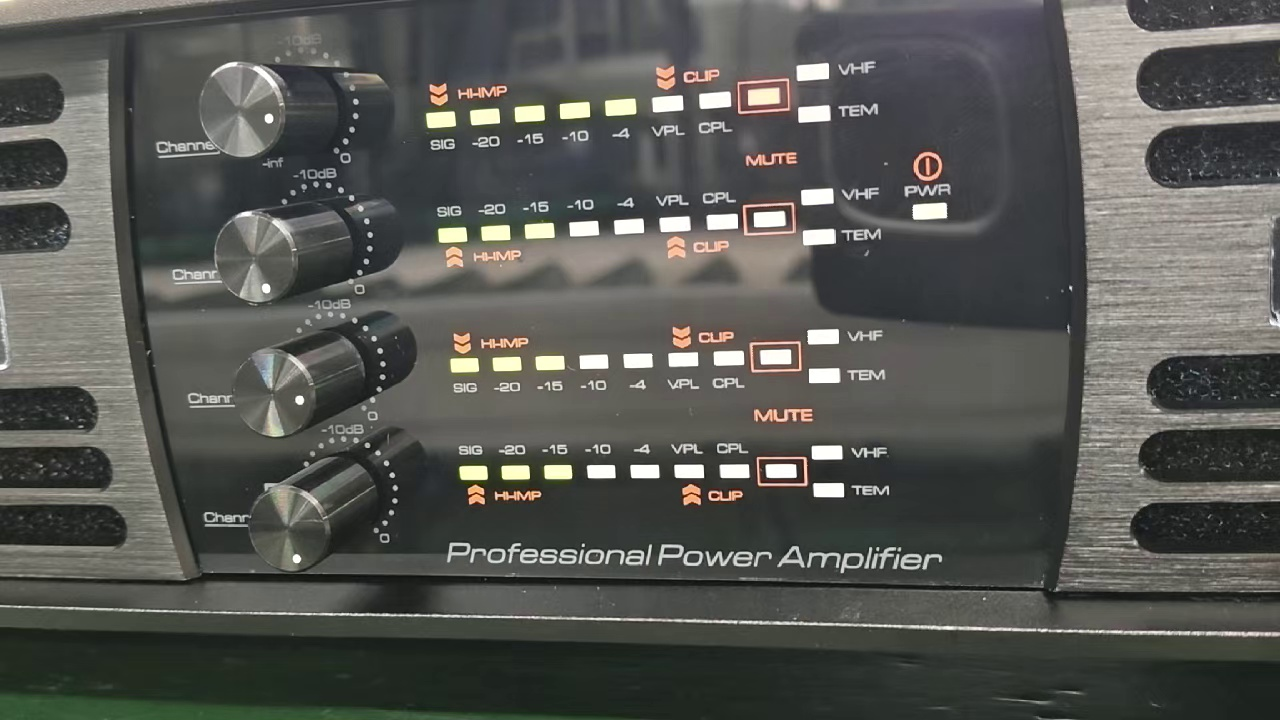FP_CPL: (695, 86, 736, 144), (700, 187, 742, 242), (708, 346, 748, 398), (712, 436, 752, 486)
FP_PWR: (895, 179, 957, 227)
FP_PWR_area: (894, 142, 957, 234)
FP_SIG_area: (423, 55, 878, 151), (426, 183, 887, 272), (454, 431, 898, 515), (448, 323, 893, 396)
FP_VPL: (647, 89, 690, 146), (662, 348, 702, 396), (654, 186, 692, 236), (670, 436, 706, 486)
